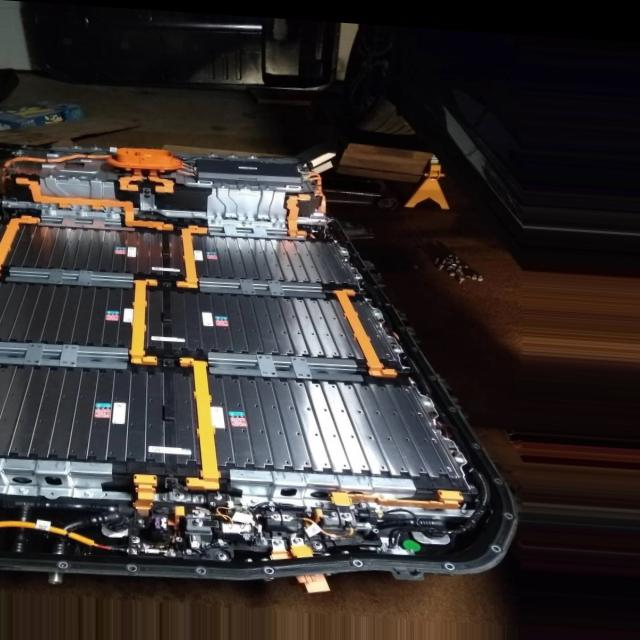Aluminum-frame: (209, 349, 363, 377), (229, 466, 417, 485), (1, 341, 129, 368), (5, 265, 134, 287), (199, 275, 326, 295), (212, 188, 284, 212), (2, 459, 112, 474), (41, 180, 116, 197), (39, 214, 122, 229), (209, 220, 290, 235)
Battery Module: (208, 373, 455, 461), (2, 366, 197, 454), (170, 289, 394, 352), (4, 225, 181, 270), (190, 233, 356, 279), (2, 285, 134, 342)
Bolt: (192, 514, 204, 524), (292, 532, 305, 541), (248, 494, 260, 502), (18, 486, 30, 494), (274, 534, 284, 542), (82, 489, 93, 496), (459, 502, 470, 509), (342, 507, 352, 514), (379, 499, 389, 506), (329, 507, 338, 514), (315, 497, 325, 503)
Bus-bar: (16, 179, 173, 227), (181, 356, 218, 484), (331, 485, 464, 502), (132, 278, 157, 362), (177, 225, 207, 285), (0, 217, 38, 264), (287, 191, 310, 233), (135, 473, 156, 508)
Cable: (2, 152, 111, 167)
Nut: (212, 487, 222, 497), (313, 538, 324, 544), (92, 172, 100, 180), (46, 204, 54, 212), (176, 489, 184, 497), (45, 171, 54, 178), (220, 178, 228, 185), (109, 206, 116, 214), (69, 172, 78, 178), (211, 211, 220, 217), (92, 143, 99, 150), (240, 179, 248, 185), (228, 149, 237, 154), (76, 205, 85, 210), (209, 148, 216, 154), (265, 180, 271, 186), (249, 150, 255, 155), (73, 142, 79, 147), (275, 213, 281, 218), (244, 213, 250, 217)
Screw: (141, 187, 153, 200), (134, 515, 146, 525), (217, 548, 228, 556), (126, 546, 136, 553), (130, 534, 138, 541)
